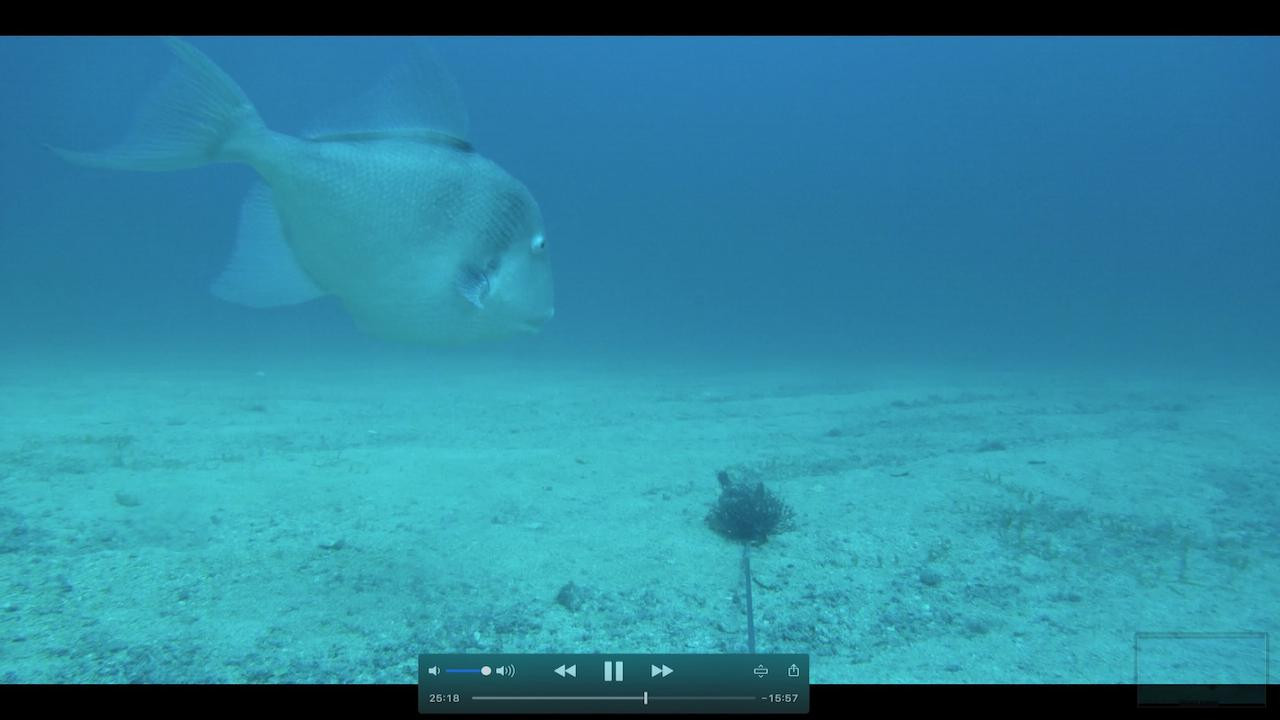balistes: (43, 42, 562, 358)
